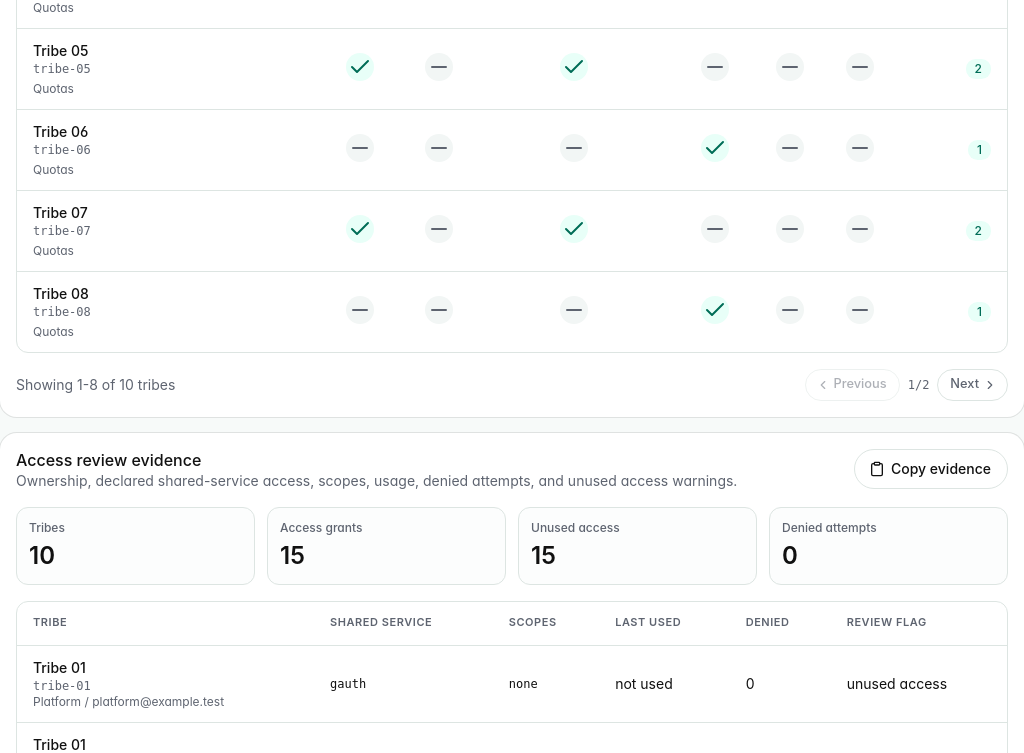
Test: SharedServiceUsageMatrix › paginates tribe rows in the usage matrix
(page scrolled)
Expected: the link "Tribe 08" is shown, [33,284,89,302]
Expected: the text "Tribe 09" is not shown
Click the button with aria-label "Next page" at (973, 384), box [937,368,1008,400]
(page scrolled)
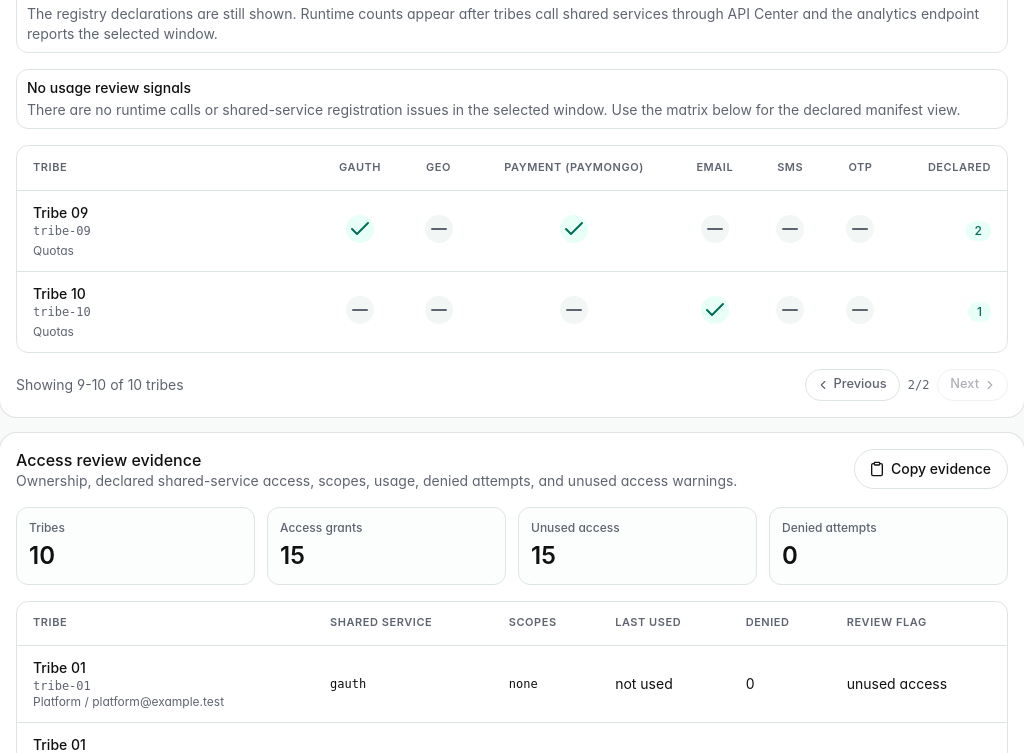
Now the link "Tribe 09" is shown, box [33,204,88,220]
Now the text "Showing 9-10 of 10 tribes" is shown, box [16,374,184,394]
